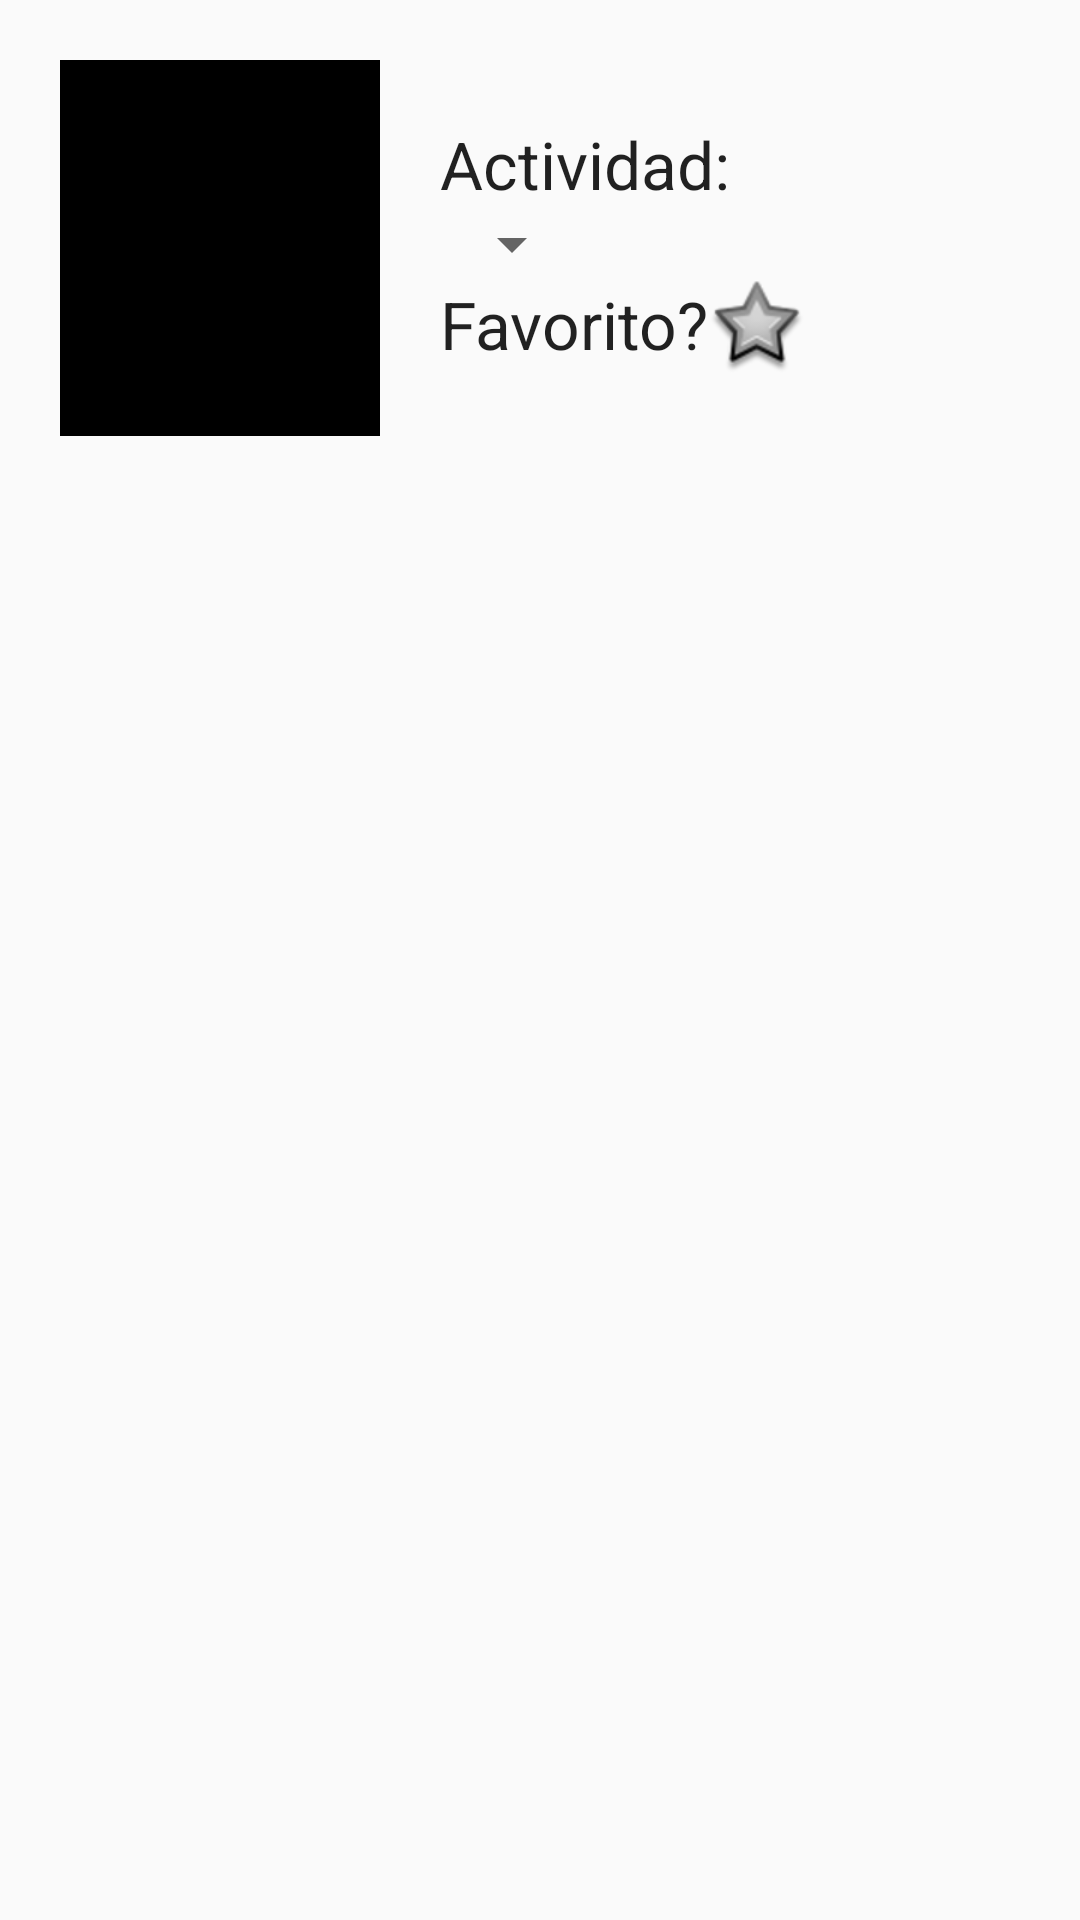

Where icons sit on this 1080×1920 app screen, as bbox(x1, y1, x2, y2):
star: bbox(714, 281, 799, 368)
